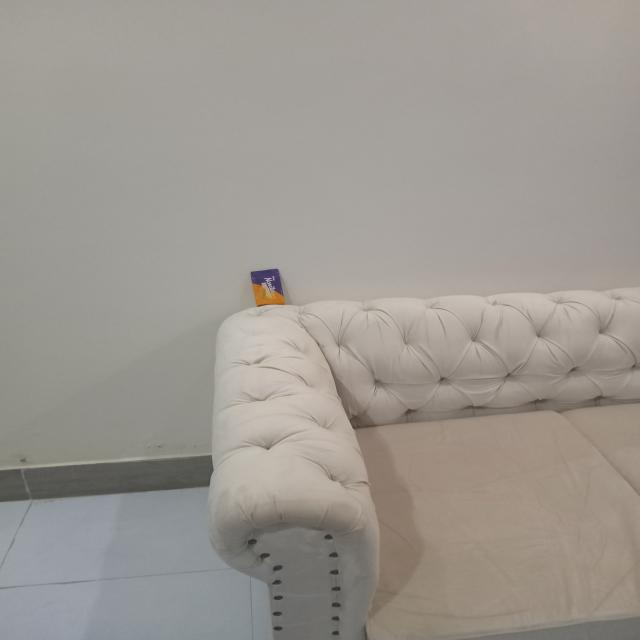Plastic: (248, 267, 288, 307)
